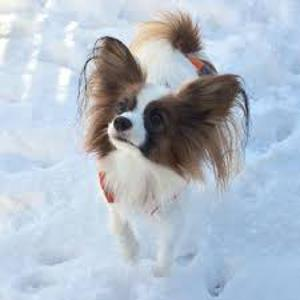yell: (79, 8, 250, 276)
